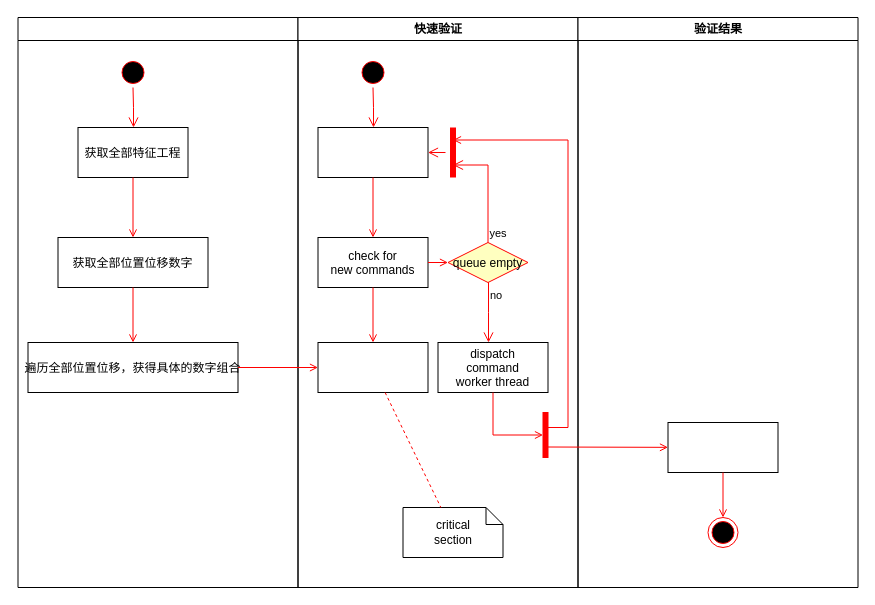
Image size: 875x605. Some labels were removed from this diagram. The box of each missing label's shape, as (x1, y1, x2, y2) in pixels:
command queue: (317, 342, 428, 392)
idle: (317, 126, 428, 178)
process command: (667, 422, 778, 472)
获取数据: (17, 16, 298, 588)
